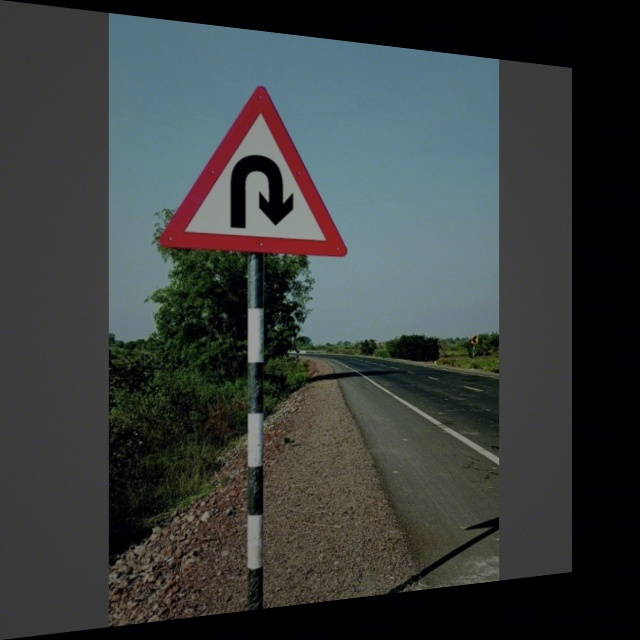Right_Hair_Pin_Bend: (174, 76, 345, 256)
